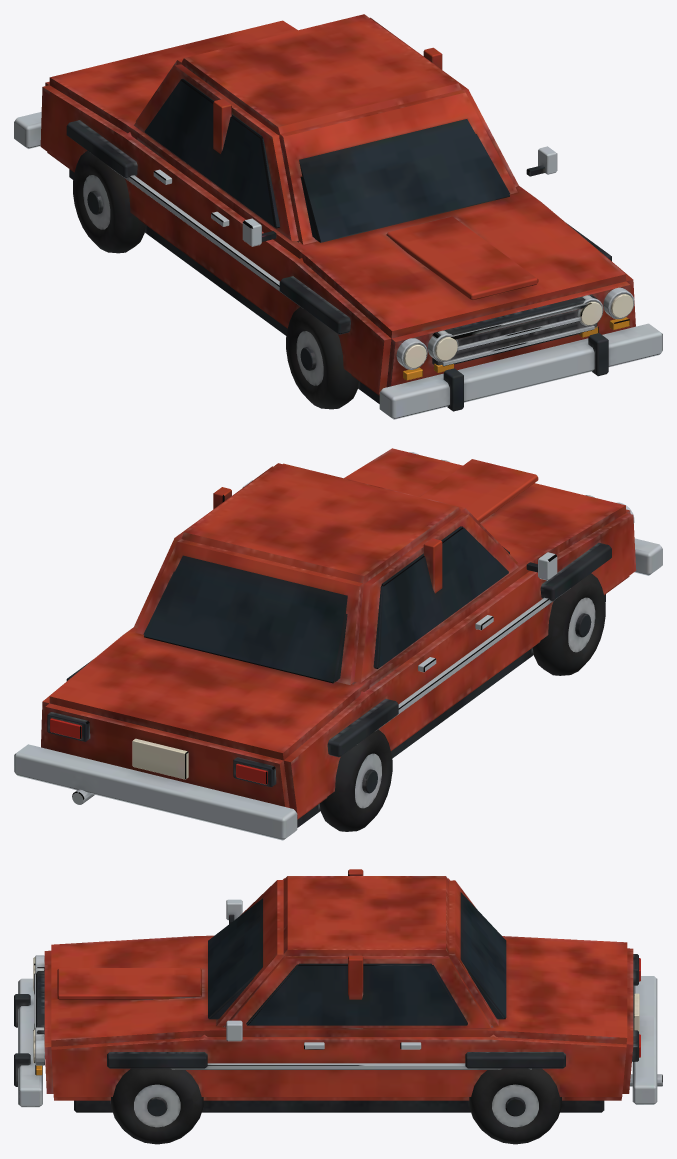
The model's file is car_sedan_classic.glb.
3 views of the same model, one above another, from view 1: azimuth 30°, elevation 25°; view 2: azimuth 150°, elevation 25°; view 3: azimuth 270°, elevation 25° (orthographic). The views are drawn at different scales.
Visible parts, largest first — view 1: CarSedanClassic; view 2: CarSedanClassic; view 3: CarSedanClassic.
Boxes of the visible parts, x1,y1,x2,y2 form: CarSedanClassic: (14,14,662,419); CarSedanClassic: (14,448,662,840); CarSedanClassic: (14,869,662,1144).
Bounding box in the file's own units: 2.16 × 1.44 × 4.71.
1 material, 1 textured.
